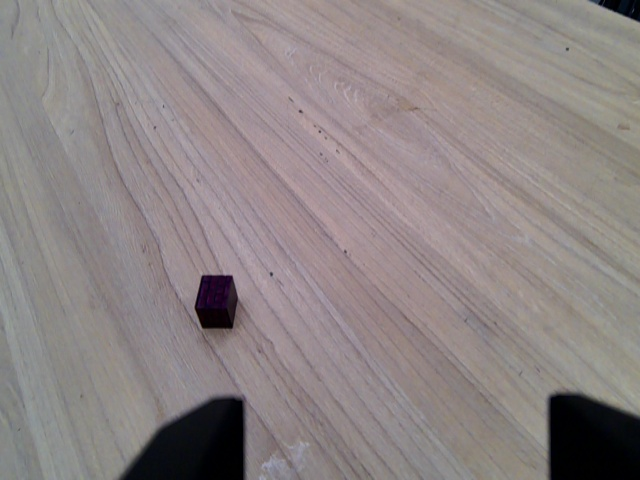brick: (186, 271, 241, 331)
